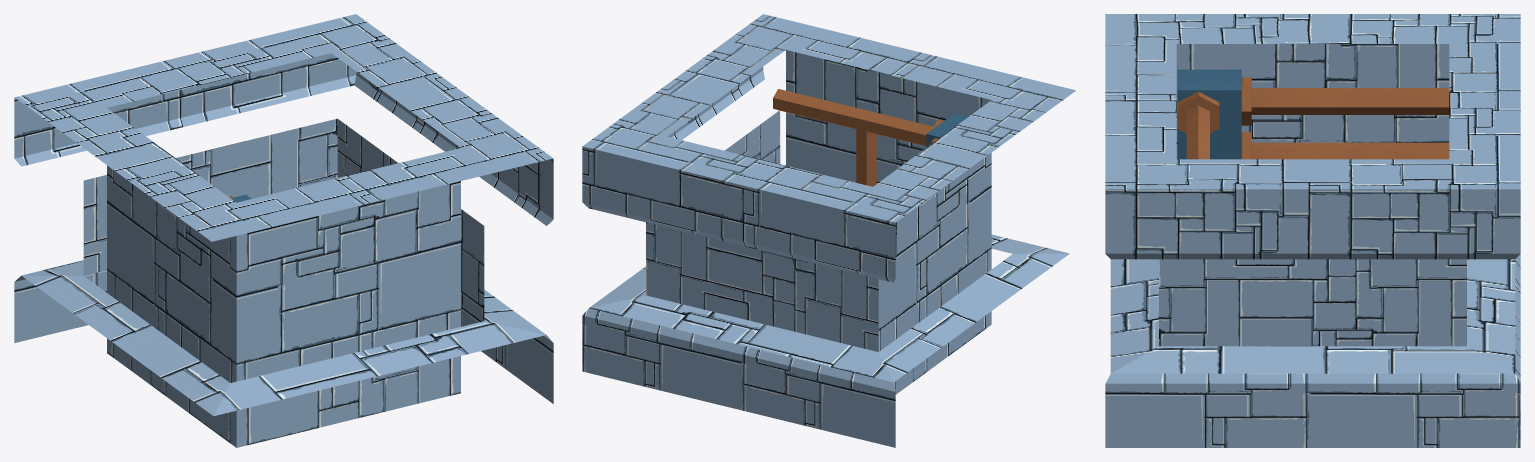
File: JC_ModPanels_UniqueTile_I.fbx
3 renders of one model, left to right at view 1: azimuth 30°, elevation 25°; view 2: azimuth 150°, elevation 25°; view 3: azimuth 270°, elevation 25°, orthographic. The views are drawn at different scales.
Parts seen in each view (by area): view 1: JC_ModPanels_UniqueTile_I; view 2: JC_ModPanels_UniqueTile_I; view 3: JC_ModPanels_UniqueTile_I.
Boxes of the visible parts, <box> form: JC_ModPanels_UniqueTile_I: <box>14,14,553,447</box>; JC_ModPanels_UniqueTile_I: <box>582,14,1075,447</box>; JC_ModPanels_UniqueTile_I: <box>1105,14,1520,447</box>.
Size of the model in its own units: 200 by 137 by 200.
